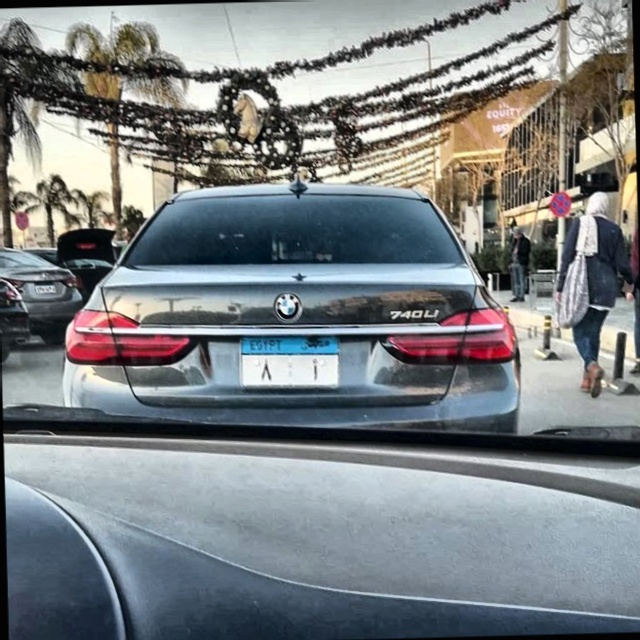License Plate: (236, 332, 342, 391)
